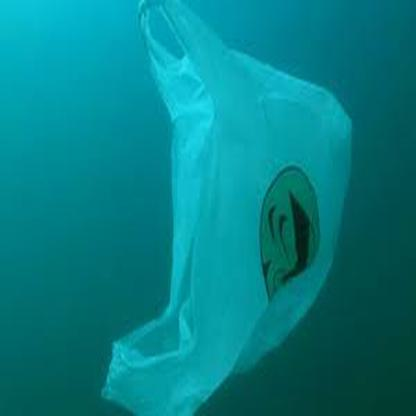plastic bag: (103, 1, 351, 414)
